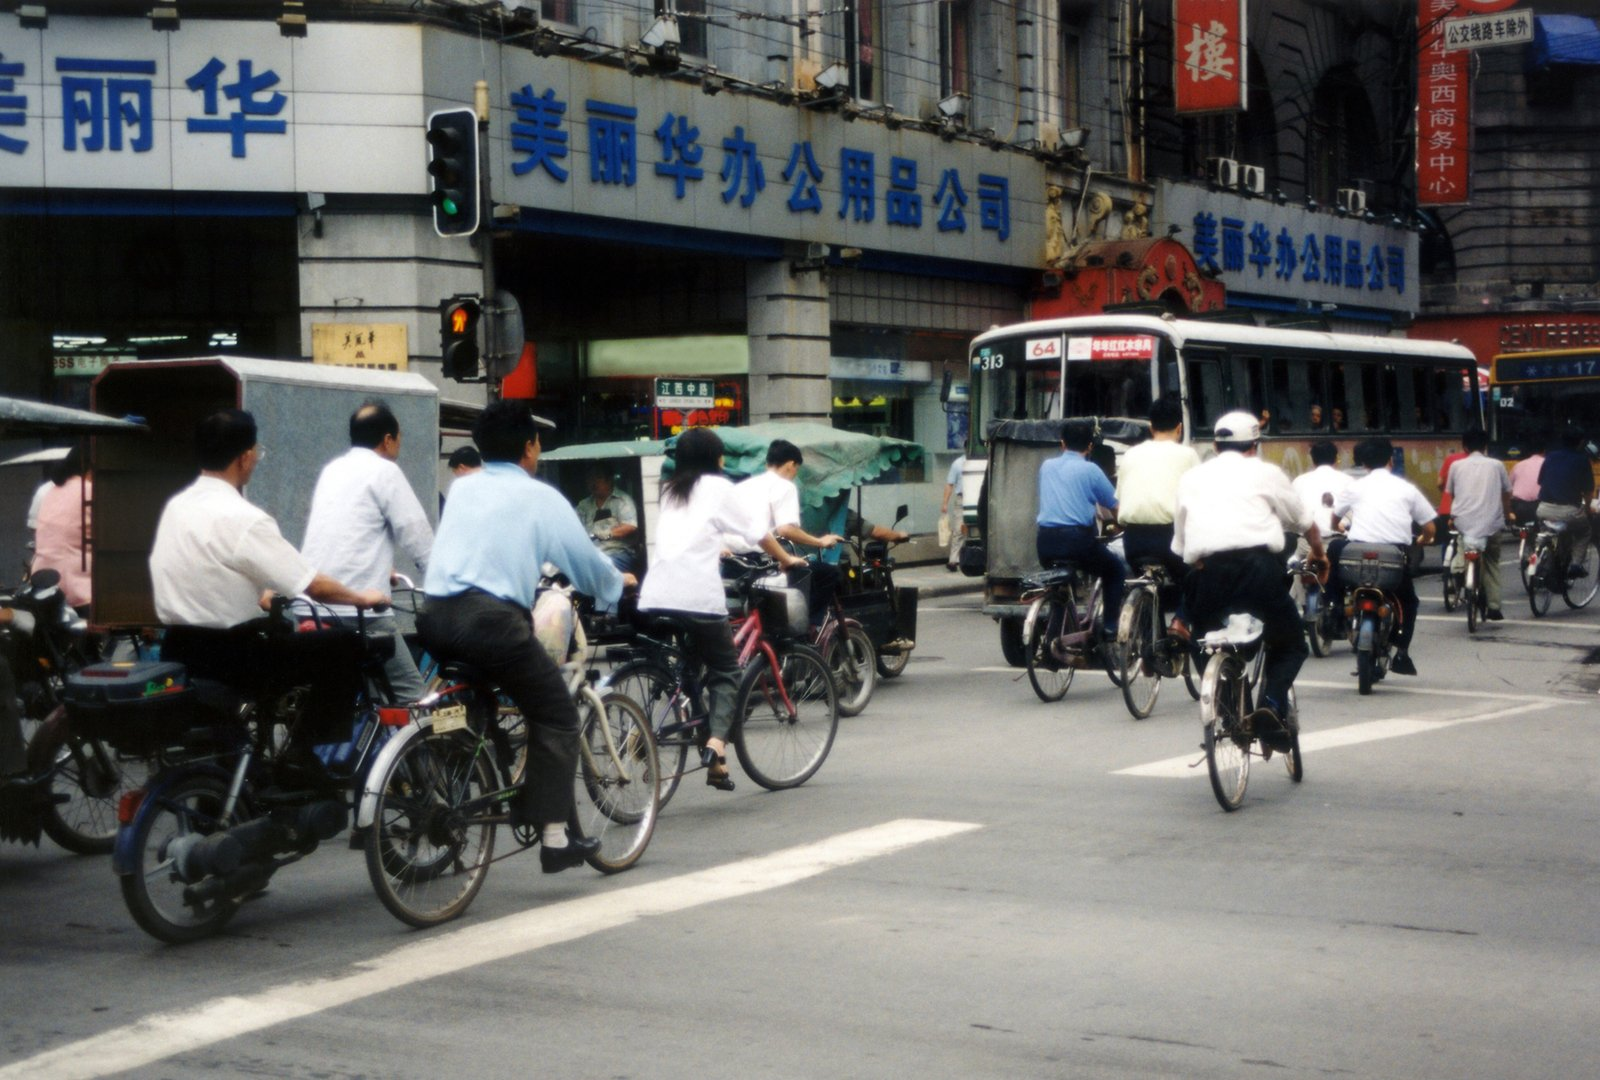Bicycle: (31, 192, 1473, 1019)
